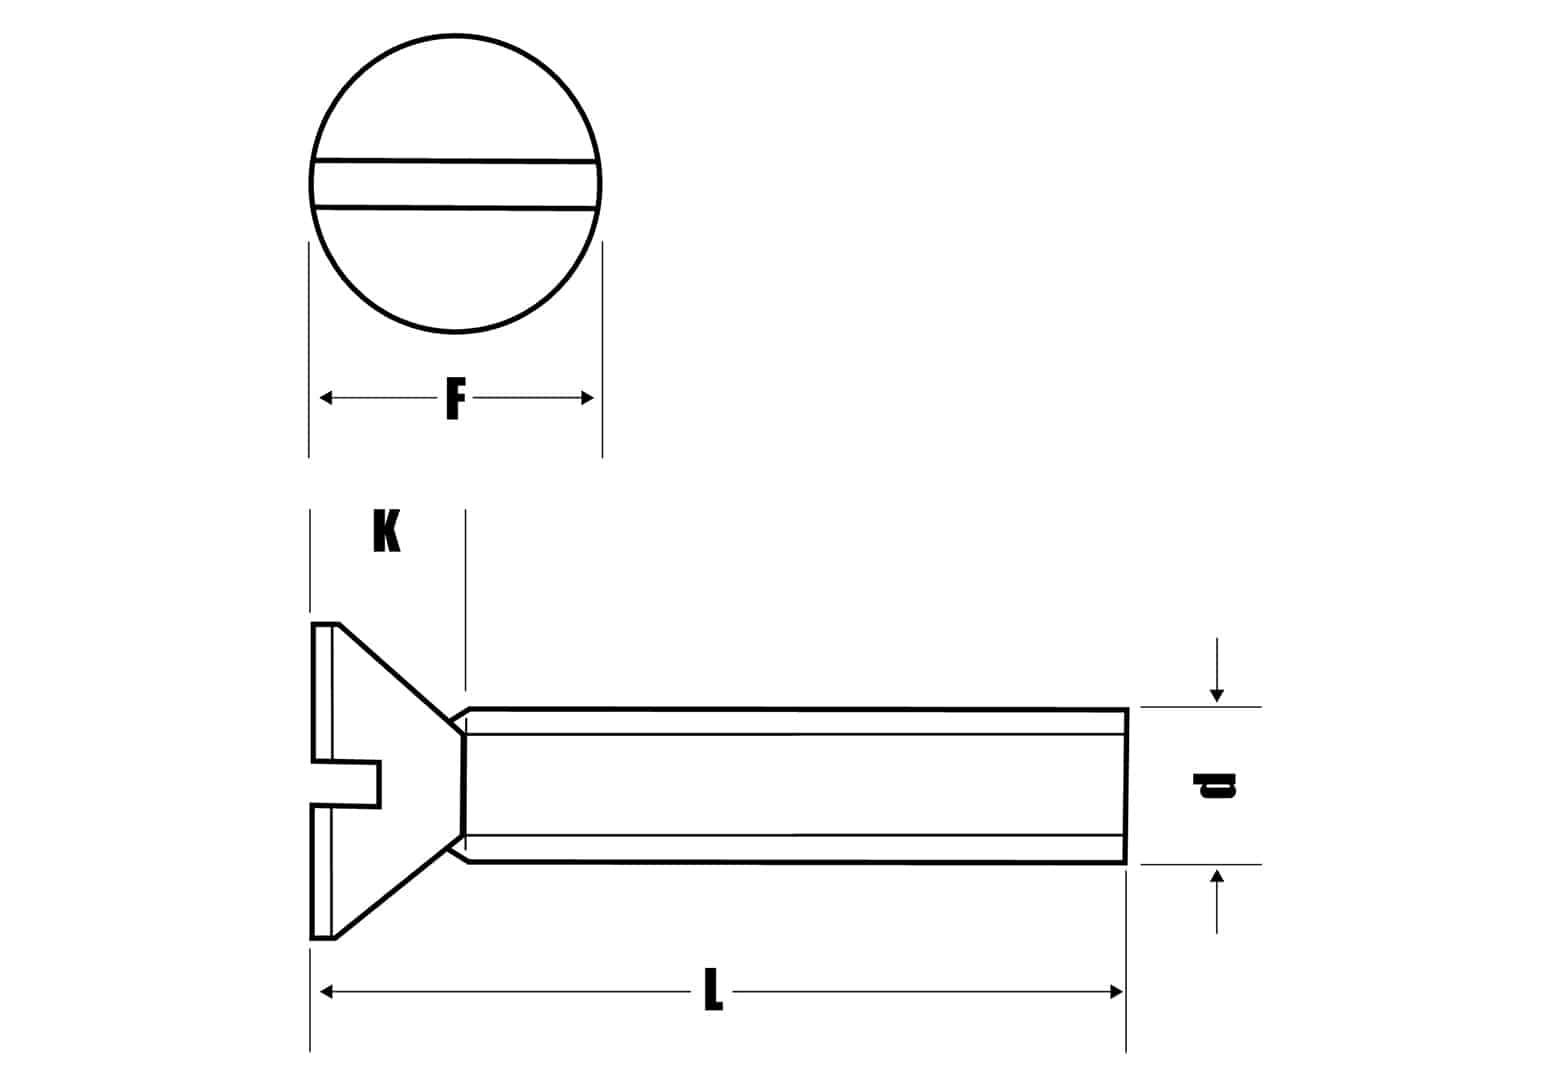slotted: (313, 28, 600, 334)
